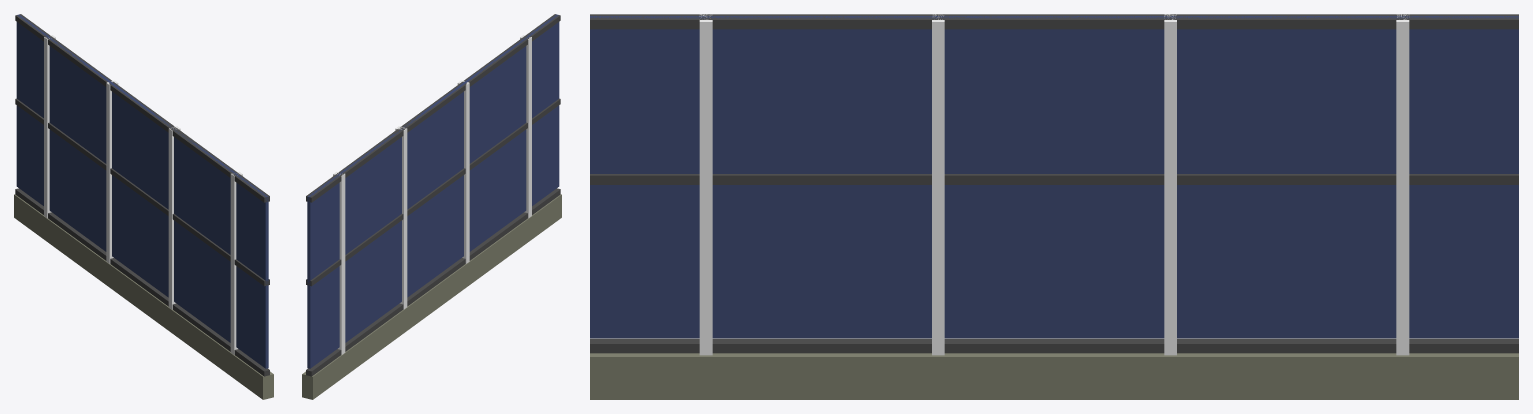
Rendered from platform_wall.fbx.
The picture shows the model from 3 angles, left to right: view 1: azimuth 30°, elevation 25°; view 2: azimuth 150°, elevation 25°; view 3: azimuth 270°, elevation 25°; orthographic projection. The views are drawn at different scales.
Parts seen in each view (by area): view 1: p502/platform_wall; view 2: p502/platform_wall; view 3: p502/platform_wall.
Boxes of the visible parts, x1,y1,x2,y2 form: p502/platform_wall: [14, 14, 273, 399]; p502/platform_wall: [302, 14, 561, 399]; p502/platform_wall: [590, 14, 1518, 399].
Size of the model in its own units: 0.2 by 3.58 by 8.
